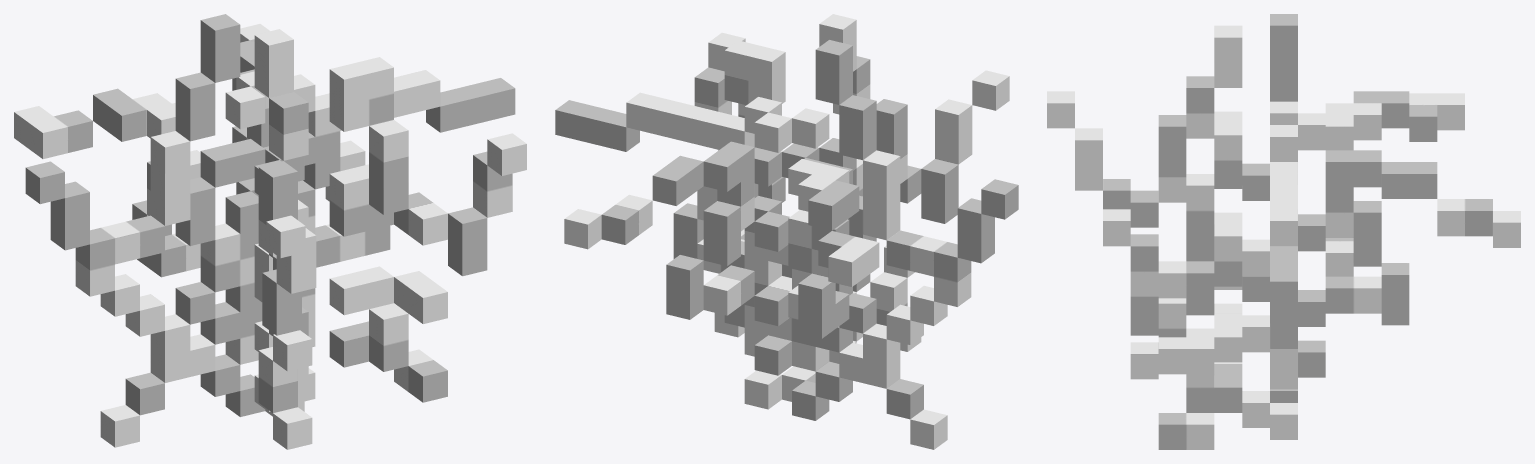
Rendered from Web_3.glb.
3 views of the same model, side by side, from view 1: azimuth 30°, elevation 25°; view 2: azimuth 150°, elevation 25°; view 3: azimuth 270°, elevation 25° (orthographic). The views are drawn at different scales.
Parts seen in each view (by area): view 1: Web_3; view 2: Web_3; view 3: Web_3.
Boxes of the visible parts, x1,y1,x2,y2 form: Web_3: [14, 14, 526, 449]; Web_3: [555, 14, 1018, 449]; Web_3: [1047, 14, 1520, 449].
Bounding box in the file's own units: 1.9 × 1.5 × 1.7.
Materials: 1 (1 with a texture image).
